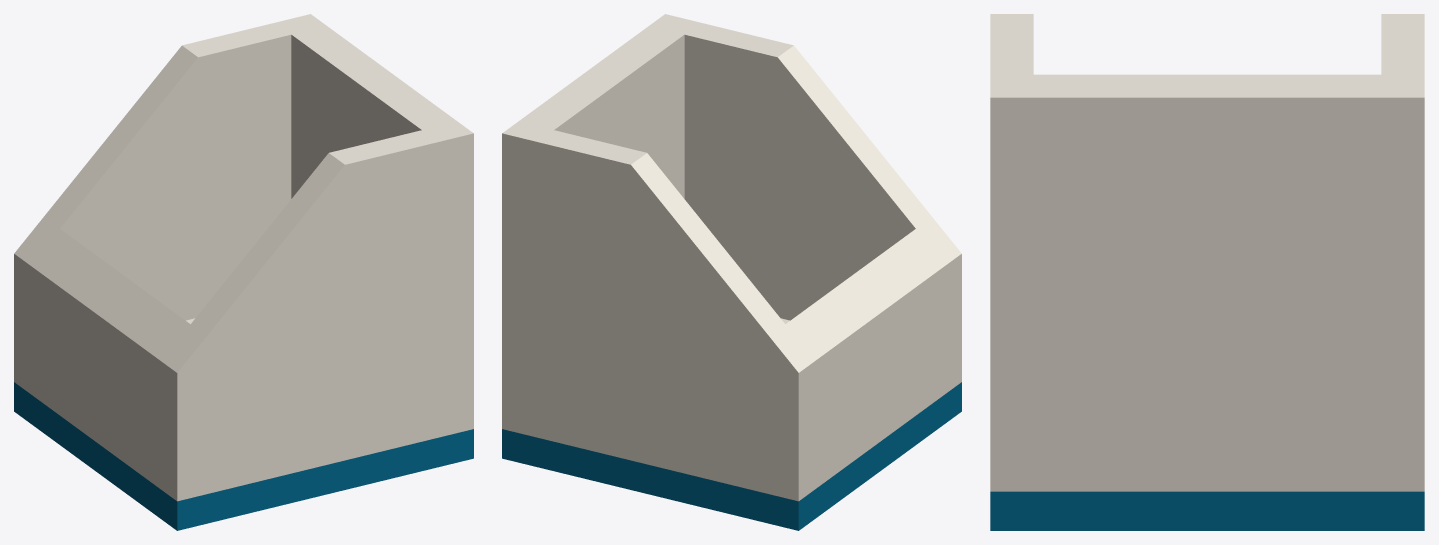
Rendered from G01_004_Bookshelf.fbx.
The picture shows the model from 3 angles, left to right: view 1: azimuth 30°, elevation 25°; view 2: azimuth 150°, elevation 25°; view 3: azimuth 270°, elevation 25°; orthographic projection. The views are drawn at different scales.
Parts seen in each view (by area): view 1: 立方体.049; view 2: 立方体.049; view 3: 立方体.049.
Boxes of the visible parts, left/top/right/bottom form: 立方体.049: left=14, top=14, right=473, bottom=530; 立方体.049: left=502, top=14, right=961, bottom=530; 立方体.049: left=990, top=14, right=1424, bottom=530.
Bounding box in the file's own units: 52.5 × 55 × 50.
